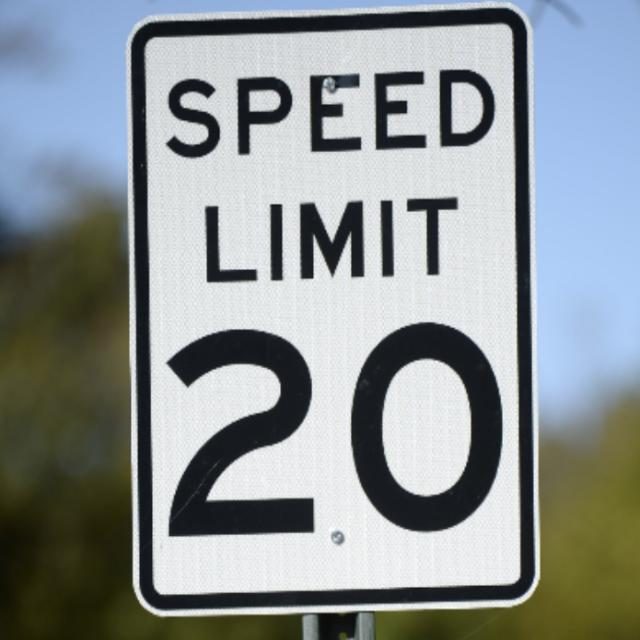speedLimit20: (145, 23, 519, 587)
